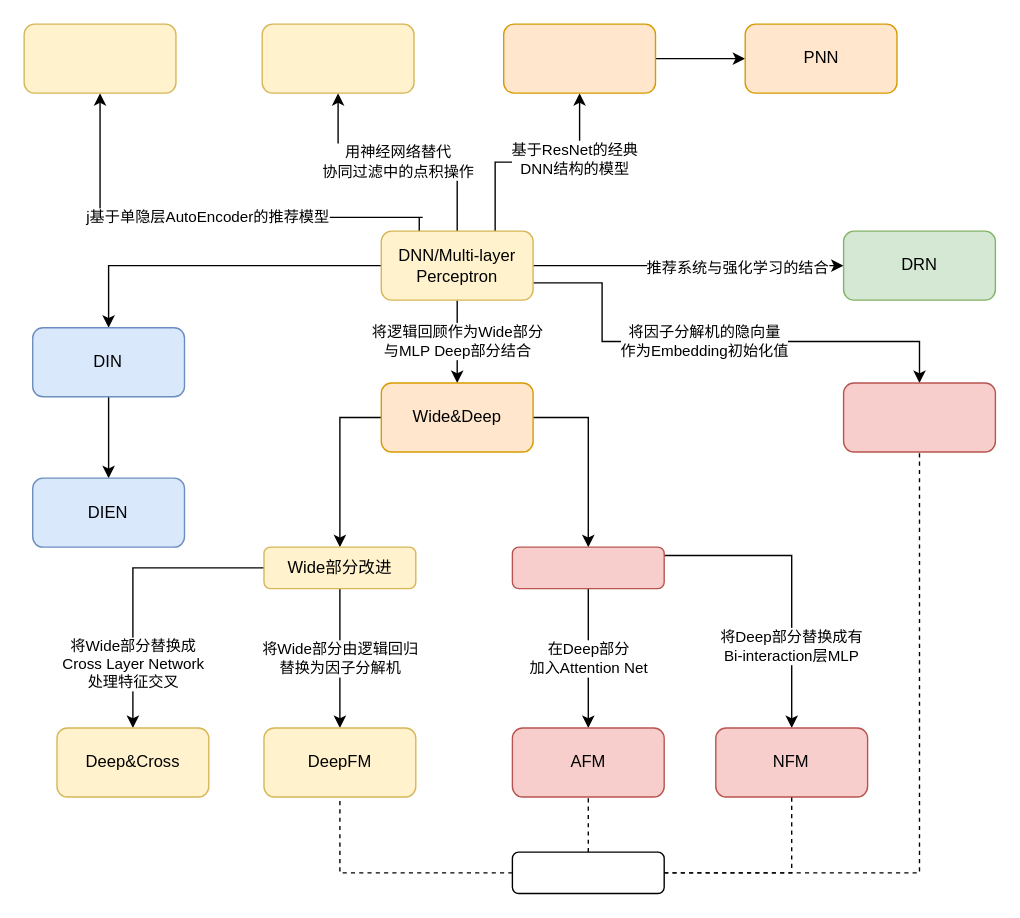
Some shapes in this 1020 by 918 pixel diagram are drawn without their labels. The shapes that lost their labels are listed below. From the top down, each one's centre as x and y in pixels, then its label:
At pixel 99 58: "AutoRec".
At pixel 337 58: "NeuralCF".
At pixel 579 58: "Deep Crossing".
At pixel 918 417: "FNN".
At pixel 587 567: "Deep部分改进".
At pixel 587 872: "FM".
